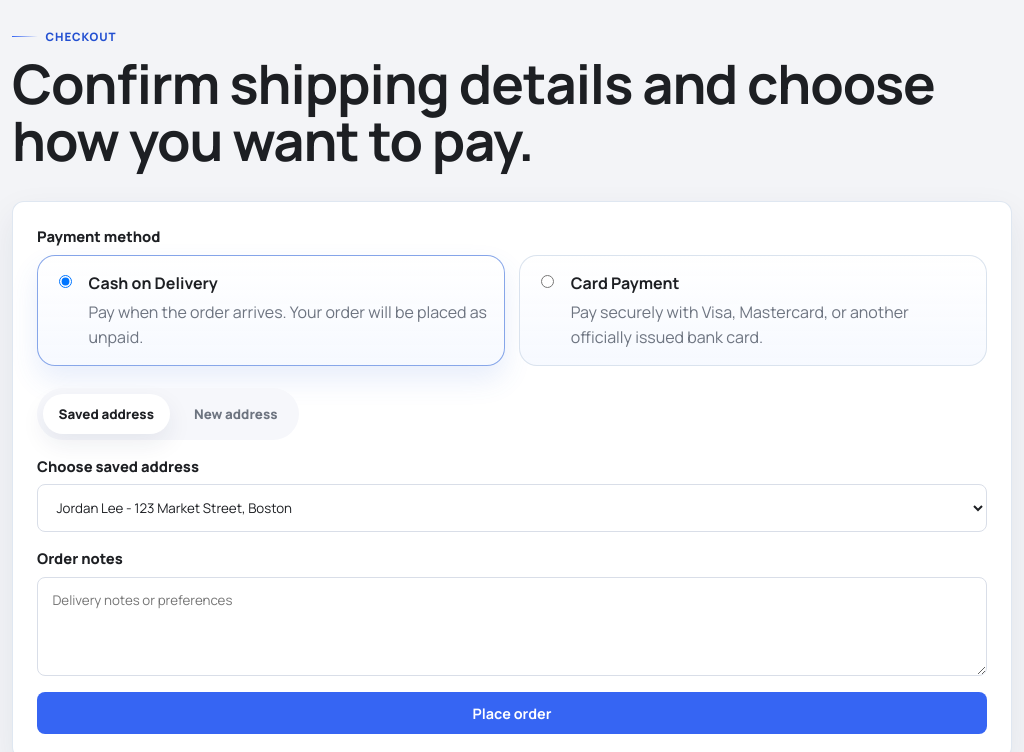
Test: completes a mock card payment and finalizes the order
The width and height of the screenshot is (1024, 752).
Click the radio button labelled "Card Payment".
click(548, 282)  # box [541,275,554,288]
(page scrolled)
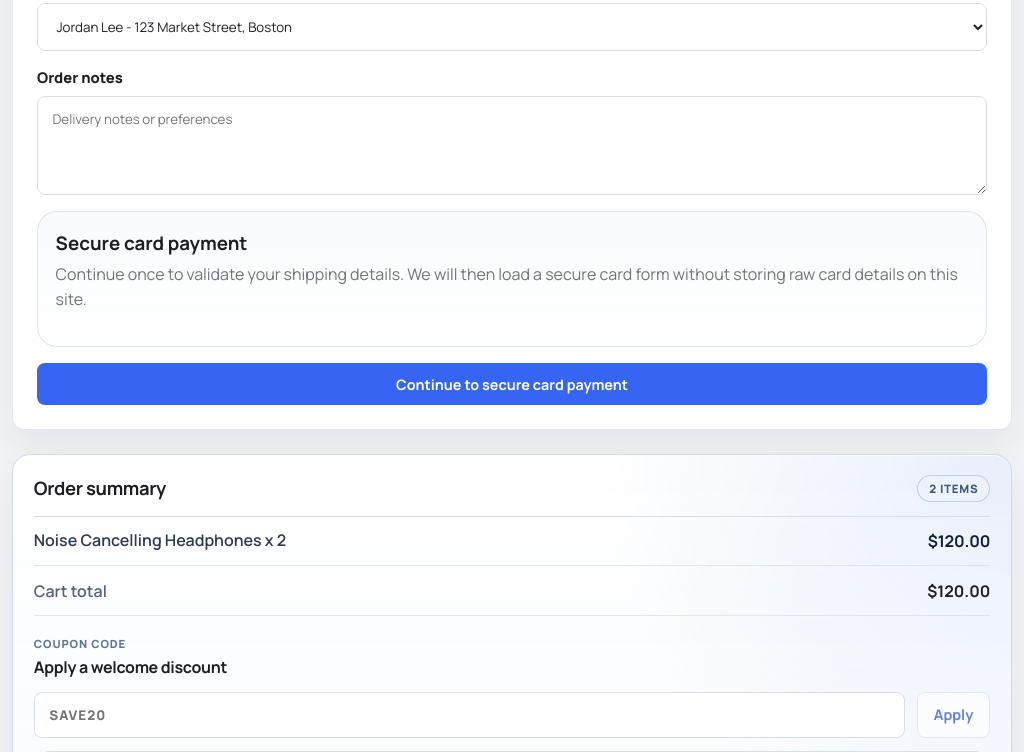
Click the button "Continue to secure card payment".
click(512, 384)  # box [37,363,987,405]
(page scrolled)
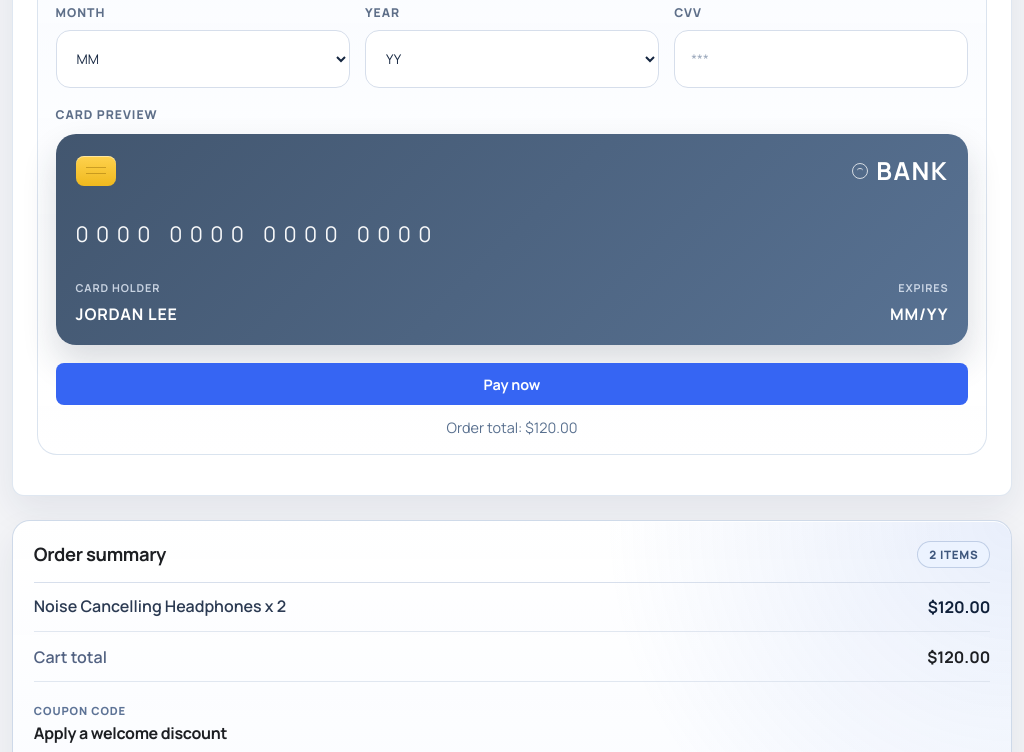
Click the button "Pay now".
click(512, 384)  # box [56,363,968,405]
(page scrolled)
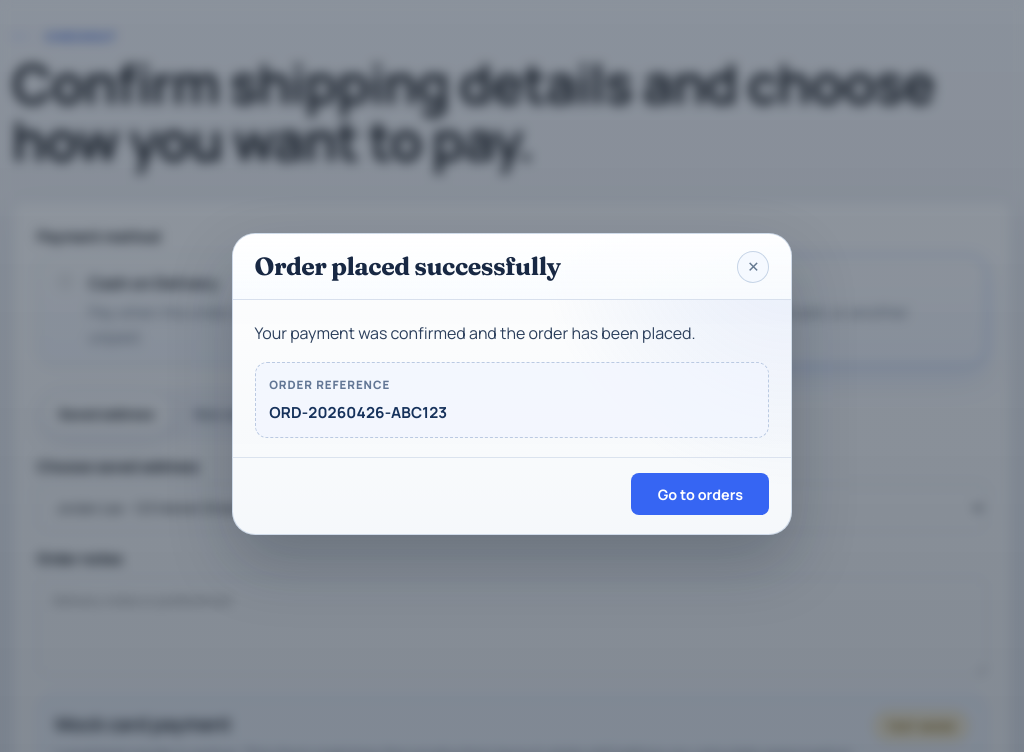
Check: the heading "Order placed successfully" is shown, box [255,253,560,280]
